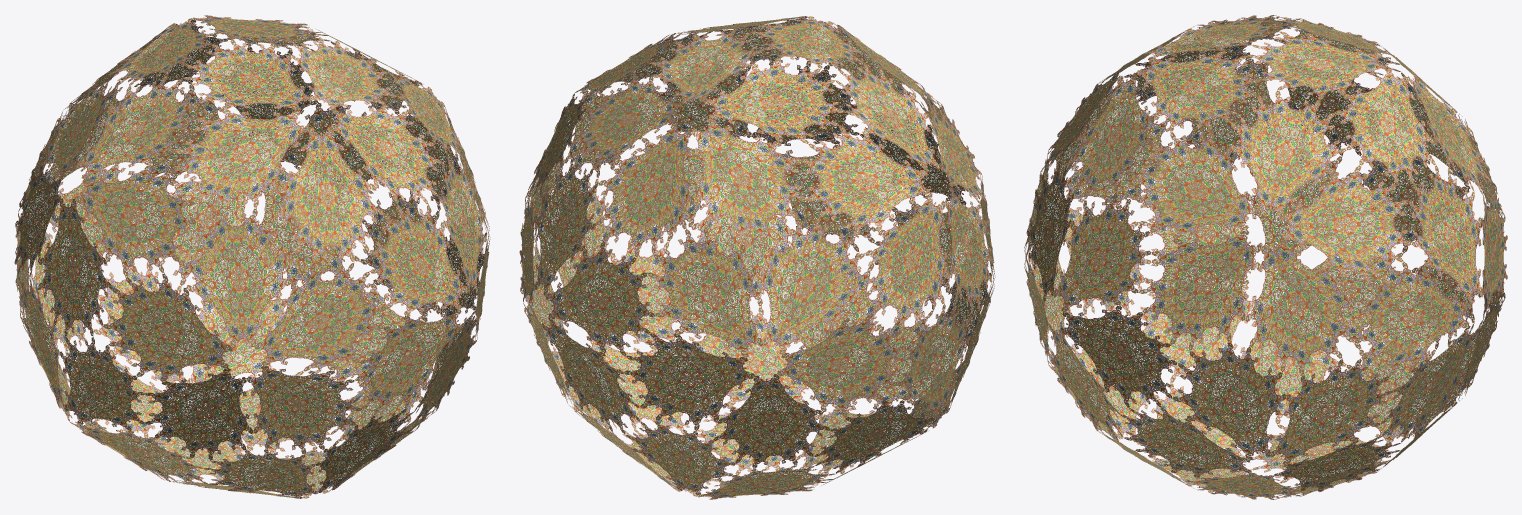
File: PentagonalHexecontahedron7.obj
The picture shows the model from 3 angles, left to right: view 1: azimuth 30°, elevation 25°; view 2: azimuth 150°, elevation 25°; view 3: azimuth 270°, elevation 25°; orthographic projection.
Bounding box in the file's own units: 4.19 × 4.19 × 4.19.
1 material, 1 textured.
